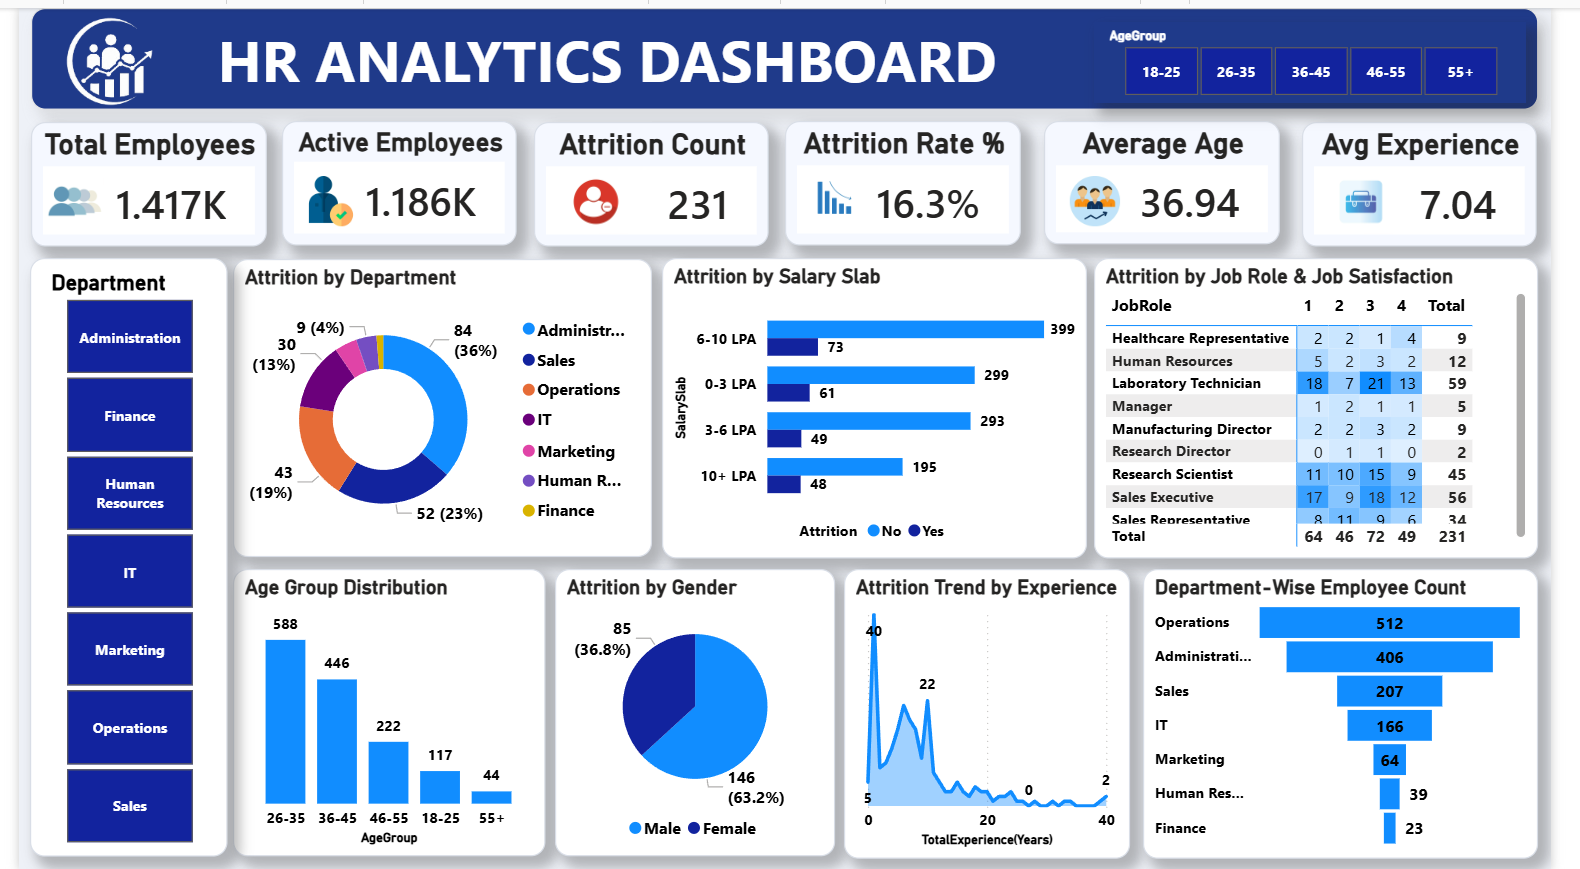

Layout of this report page (visuals, bound fields, positions):
{"tool":"powerbi","page":{"name":"Page 1","canvas":[1280,720],"ordinal":0},"visuals":[{"type":"textbox","box":[10,0,1259,85],"z":0},{"type":"image","box":[22.4,0,110.9,84.6],"z":1000},{"type":"cardVisual","title":"Total Employees","fields":{"Data":["CountNonNull(HR_Analytics-4.EmpID)"]},"box":[10,95,197,104],"z":1001},{"type":"cardVisual","title":"Active Employees","fields":{"Data":["CountNonNull(HR_Analytics-4.EmployeeCount)"]},"box":[219.8,94.3,196.5,104.1],"z":1002},{"type":"cardVisual","title":"Attrition Count","fields":{"Data":["Sum(HR_Analytics-4.AttritionCount)"]},"box":[429.9,95.3,196.5,104.1],"z":1003},{"type":"cardVisual","title":"Average Age","fields":{"Data":["Avg(HR_Analytics-4.Age)"]},"box":[855.9,94.3,197.4,103.1],"z":1004},{"type":"cardVisual","title":"Attrition Rate %","fields":{"Data":["HR_Analytics-4.Attrition Rate %"]},"box":[640,94.3,197.4,104.1],"z":1005},{"type":"cardVisual","title":"Avg Experience","fields":{"Data":["Avg(HR_Analytics-4.YearsatCompany)"]},"box":[1071.9,95.3,196.5,104.1],"z":1006},{"type":"image","box":[22.4,135.2,47.7,52.5],"z":1007},{"type":"image","box":[235.4,140.1,49.6,41.8],"z":1008},{"type":"image","box":[454.2,135.2,55.4,52.5],"z":1009},{"type":"image","box":[873.4,140.1,49.6,41.8],"z":1010},{"type":"image","box":[1093.3,135.2,55.4,52.5],"z":1011},{"type":"image","box":[658.5,135.2,45.7,46.7],"z":1012},{"type":"donutChart","title":"Attrition by Department","fields":{"Category":["HR_Analytics-4.Department"],"Y":["Sum(HR_Analytics-4.AttritionCount)"]},"box":[179,210,350,249],"z":1013},{"type":"clusteredBarChart","title":"Attrition by Salary Slab","fields":{"Category":["HR_Analytics-4.SalarySlab"],"Y":["CountNonNull(HR_Analytics-4.EmpID)"],"Series":["HR_Analytics-4.Attrition"]},"box":[537,209,355,251],"z":1014},{"type":"pivotTable","title":"Attrition by Job Role & Job Satisfaction","fields":{"Rows":["HR_Analytics-4.JobRole"],"Values":["Sum(HR_Analytics-4.AttritionCount)"],"Columns":["HR_Analytics-4.JobSatisfaction"]},"box":[898,209,371,251],"z":1015},{"type":"columnChart","title":"Age Group Distribution","fields":{"Category":["HR_Analytics-4.AgeGroup"],"Y":["Sum(HR_Analytics-4.EmployeeCount)"]},"box":[179,469,261,240],"z":1016},{"type":"pieChart","title":"Attrition by Gender","fields":{"Category":["HR_Analytics-4.Gender"],"Y":["Sum(HR_Analytics-4.AttritionCount)"]},"box":[448,469,234,240],"z":1017},{"type":"areaChart","title":"Attrition Trend by Experience","fields":{"Category":["HR_Analytics-4.TotalExperience(Years)"],"Y2":["Sum(HR_Analytics-4.AttritionCount)"]},"box":[689,469,239,242],"z":1018},{"type":"funnel","title":"Department-Wise Employee Count","fields":{"Category":["HR_Analytics-4.Department"],"Y":["CountNonNull(HR_Analytics-4.EmpID)"]},"box":[938.6,468.8,329.7,242.2],"z":1019},{"type":"slicer","fields":{"Values":["HR_Analytics-4.Department"]},"box":[9,209,165,500],"z":1020},{"type":"slicer","fields":{"Values":["HR_Analytics-4.AgeGroup"]},"box":[898,12,361,68],"z":1021}]}

Visuals, with their boxes in screenshot pixels (x1, y1, x2, y2), scaled from the page's 1280x720 canvas onto the 1580x869 screenshot:
textbox: x1=12 y1=0 x2=1566 y2=103
image: x1=28 y1=0 x2=165 y2=102
"Total Employees" cardVisual: x1=12 y1=115 x2=256 y2=240
"Active Employees" cardVisual: x1=271 y1=114 x2=514 y2=239
"Attrition Count" cardVisual: x1=531 y1=115 x2=773 y2=241
"Average Age" cardVisual: x1=1057 y1=114 x2=1300 y2=238
"Attrition Rate %" cardVisual: x1=790 y1=114 x2=1034 y2=239
"Avg Experience" cardVisual: x1=1323 y1=115 x2=1566 y2=241
image: x1=28 y1=163 x2=87 y2=227
image: x1=291 y1=169 x2=352 y2=220
image: x1=561 y1=163 x2=629 y2=227
image: x1=1078 y1=169 x2=1139 y2=220
image: x1=1350 y1=163 x2=1418 y2=227
image: x1=813 y1=163 x2=869 y2=220
"Attrition by Department" donutChart: x1=221 y1=253 x2=653 y2=554
"Attrition by Salary Slab" clusteredBarChart: x1=663 y1=252 x2=1101 y2=555
"Attrition by Job Role & Job Satisfaction" pivotTable: x1=1108 y1=252 x2=1566 y2=555
"Age Group Distribution" columnChart: x1=221 y1=566 x2=543 y2=856
"Attrition by Gender" pieChart: x1=553 y1=566 x2=842 y2=856
"Attrition Trend by Experience" areaChart: x1=850 y1=566 x2=1146 y2=858
"Department-Wise Employee Count" funnel: x1=1159 y1=566 x2=1566 y2=858
slicer - HR_Analytics-4.Department: x1=11 y1=252 x2=215 y2=856
slicer - HR_Analytics-4.AgeGroup: x1=1108 y1=14 x2=1554 y2=97
